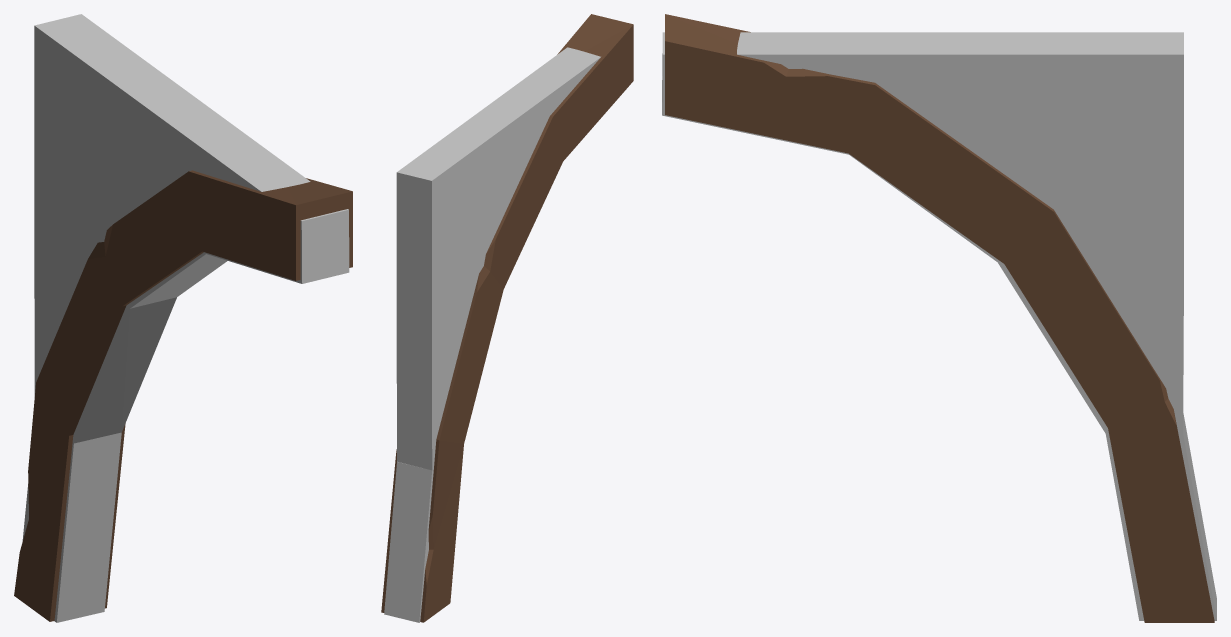
File: SM_Bld_Wall_Arch_Edge_01.fbx
3 renders of one model, left to right at view 1: azimuth 30°, elevation 25°; view 2: azimuth 150°, elevation 25°; view 3: azimuth 270°, elevation 25°, orthographic. The views are drawn at different scales.
Visible parts, largest first — view 1: SM_Bld_Wall_Arch_Edge_01_ConvexHulls, SM_Bld_Wall_Arch_Edge_01; view 2: SM_Bld_Wall_Arch_Edge_01_ConvexHulls, SM_Bld_Wall_Arch_Edge_01; view 3: SM_Bld_Wall_Arch_Edge_01_ConvexHulls, SM_Bld_Wall_Arch_Edge_01.
Boxes of the visible parts, x1,y1,x2,y2 form: SM_Bld_Wall_Arch_Edge_01_ConvexHulls: (22,14,349,622); SM_Bld_Wall_Arch_Edge_01: (14,170,352,621); SM_Bld_Wall_Arch_Edge_01_ConvexHulls: (384,47,600,622); SM_Bld_Wall_Arch_Edge_01: (381,14,633,622); SM_Bld_Wall_Arch_Edge_01_ConvexHulls: (662,32,1216,620); SM_Bld_Wall_Arch_Edge_01: (665,14,1214,622).
Bounding box in the file's own units: 31.07 × 269 × 311.
3 materials, 2 textured.
